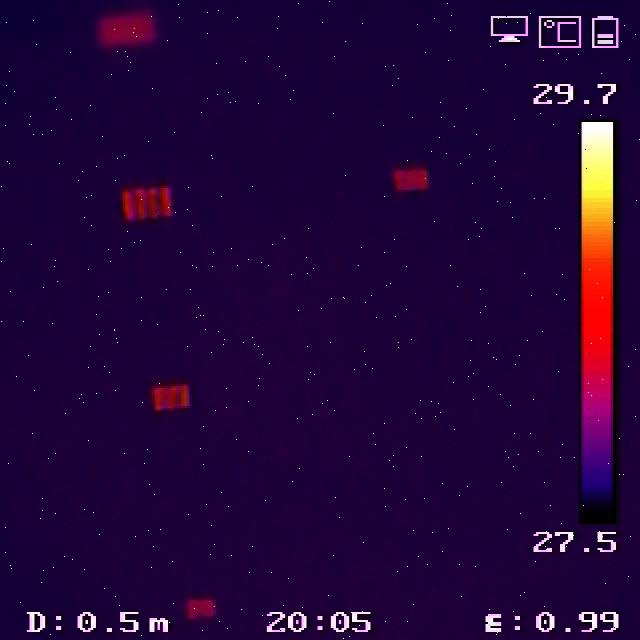Indistinguishable 4-bar target: (93, 9, 159, 50), (393, 165, 427, 191), (154, 386, 190, 410), (183, 601, 216, 617)
threshold 4-bar target: (122, 187, 174, 220)
